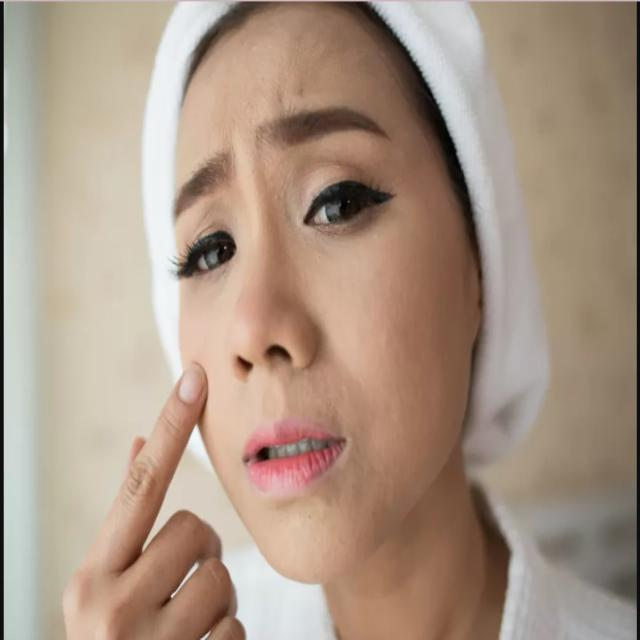dry: (332, 256, 440, 402), (186, 41, 334, 104), (259, 500, 375, 546)
